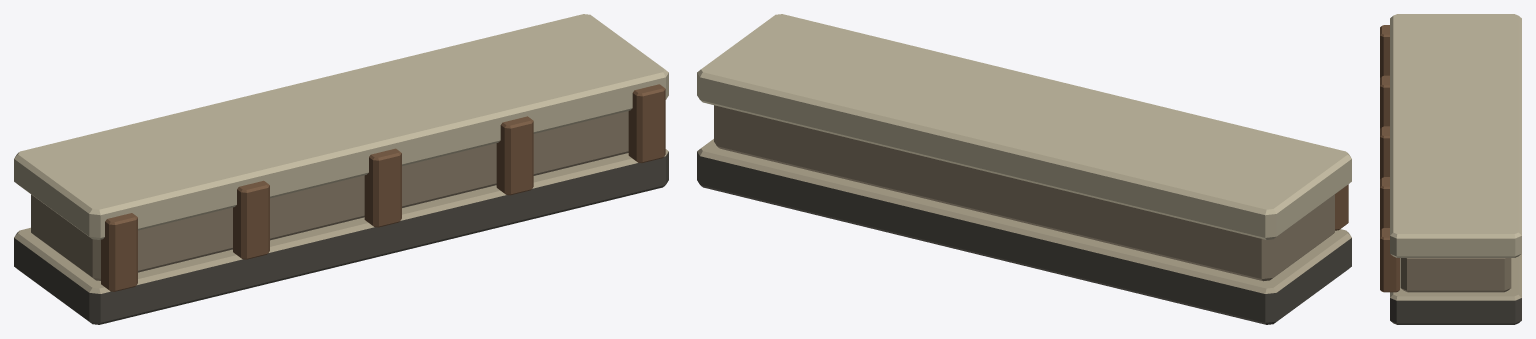
Rendered from wall-low.glb.
3 renders of one model, left to right at view 1: azimuth 30°, elevation 25°; view 2: azimuth 150°, elevation 25°; view 3: azimuth 270°, elevation 25°, orthographic. The views are drawn at different scales.
Visible parts, largest first — view 1: wall-low__body; view 2: wall-low__body; view 3: wall-low__body.
Part boxes in pixels (box(x1,y1,x2,y2)): wall-low__body: box(14, 14, 668, 324); wall-low__body: box(697, 14, 1351, 324); wall-low__body: box(1380, 14, 1521, 324).
Bounding box in the file's own units: 2 × 0.38 × 0.5375.
